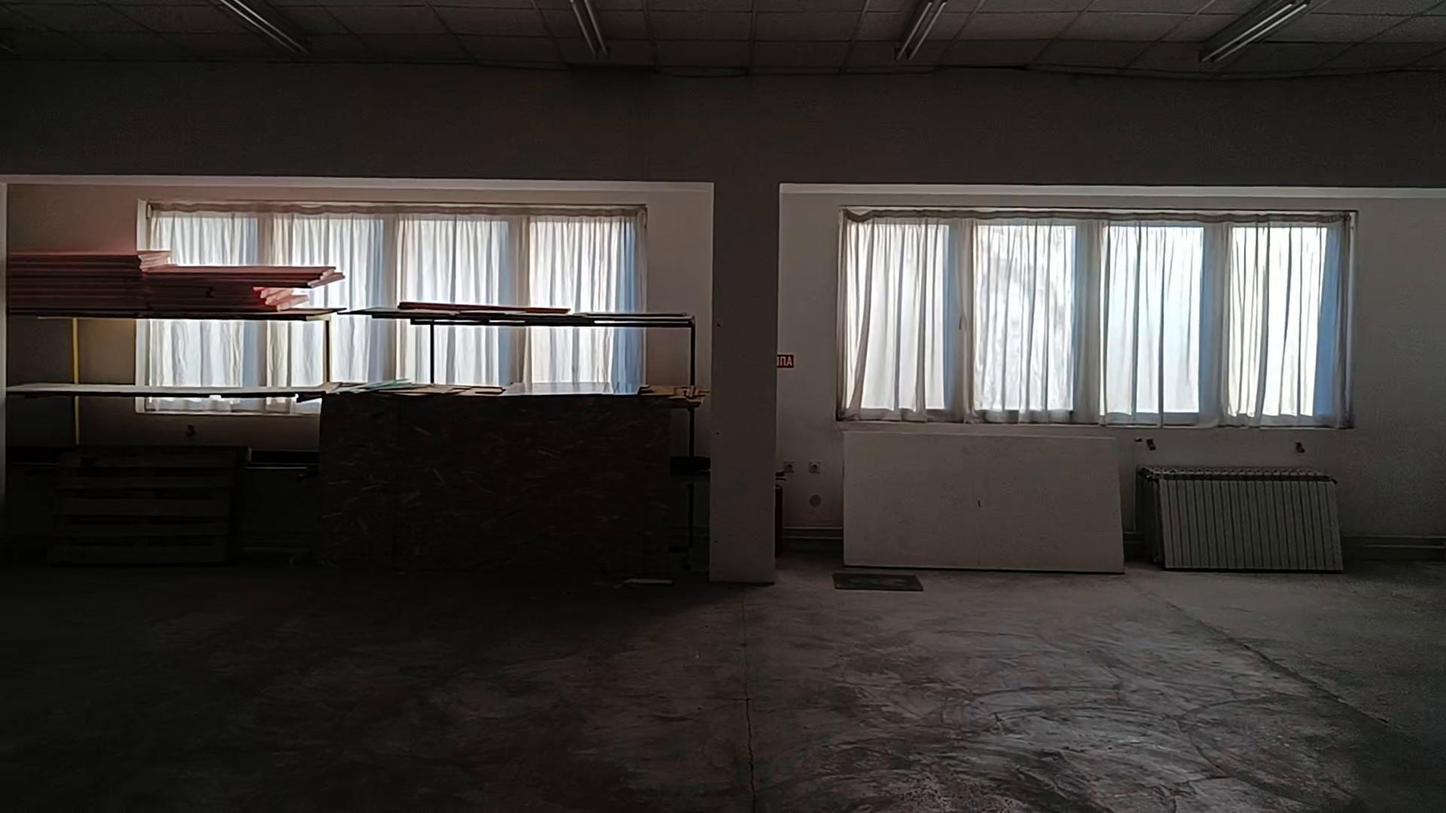ceiling: (0, 0, 1445, 78)
floor: (0, 562, 1445, 812)
wall: (14, 80, 1442, 577)
